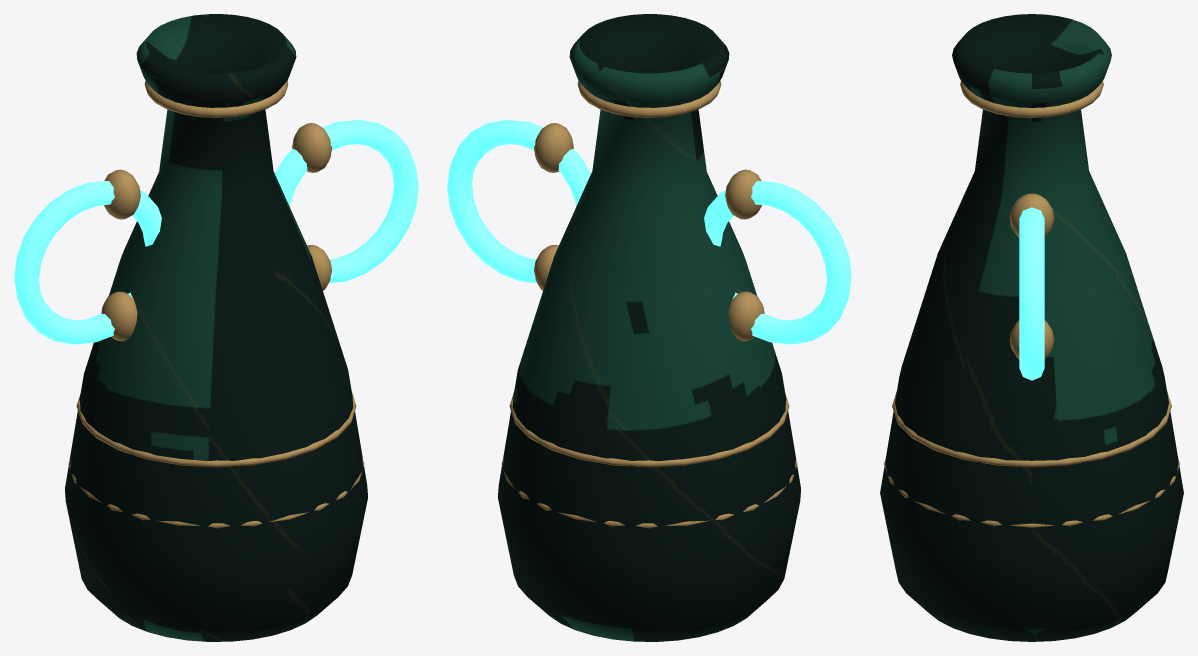
File: amphora_pattern_jade.fbx
3 views of the same model, side by side, from view 1: azimuth 30°, elevation 25°; view 2: azimuth 150°, elevation 25°; view 3: azimuth 270°, elevation 25° (orthographic).
Visible parts, largest first — view 1: Reviewed_amphora_Body.005, TH10_Amphora_Handle.016, TH10_Amphora_Handle.017; view 2: Reviewed_amphora_Body.005, TH10_Amphora_Handle.016, TH10_Amphora_Handle.017; view 3: Reviewed_amphora_Body.005, TH10_Amphora_Handle.017.
Part boxes in pixels (box(x1,y1,x2,y2)): Reviewed_amphora_Body.005: box(65, 14, 367, 641); TH10_Amphora_Handle.016: box(14, 181, 161, 344); TH10_Amphora_Handle.017: box(275, 120, 418, 283); Reviewed_amphora_Body.005: box(498, 14, 800, 641); TH10_Amphora_Handle.016: box(704, 181, 851, 344); TH10_Amphora_Handle.017: box(447, 120, 590, 283); Reviewed_amphora_Body.005: box(880, 14, 1183, 641); TH10_Amphora_Handle.017: box(1019, 207, 1044, 380).
Size of the model in its own units: 0.29 by 0.38 by 0.19.
Materials: 3 (1 with a texture image).
